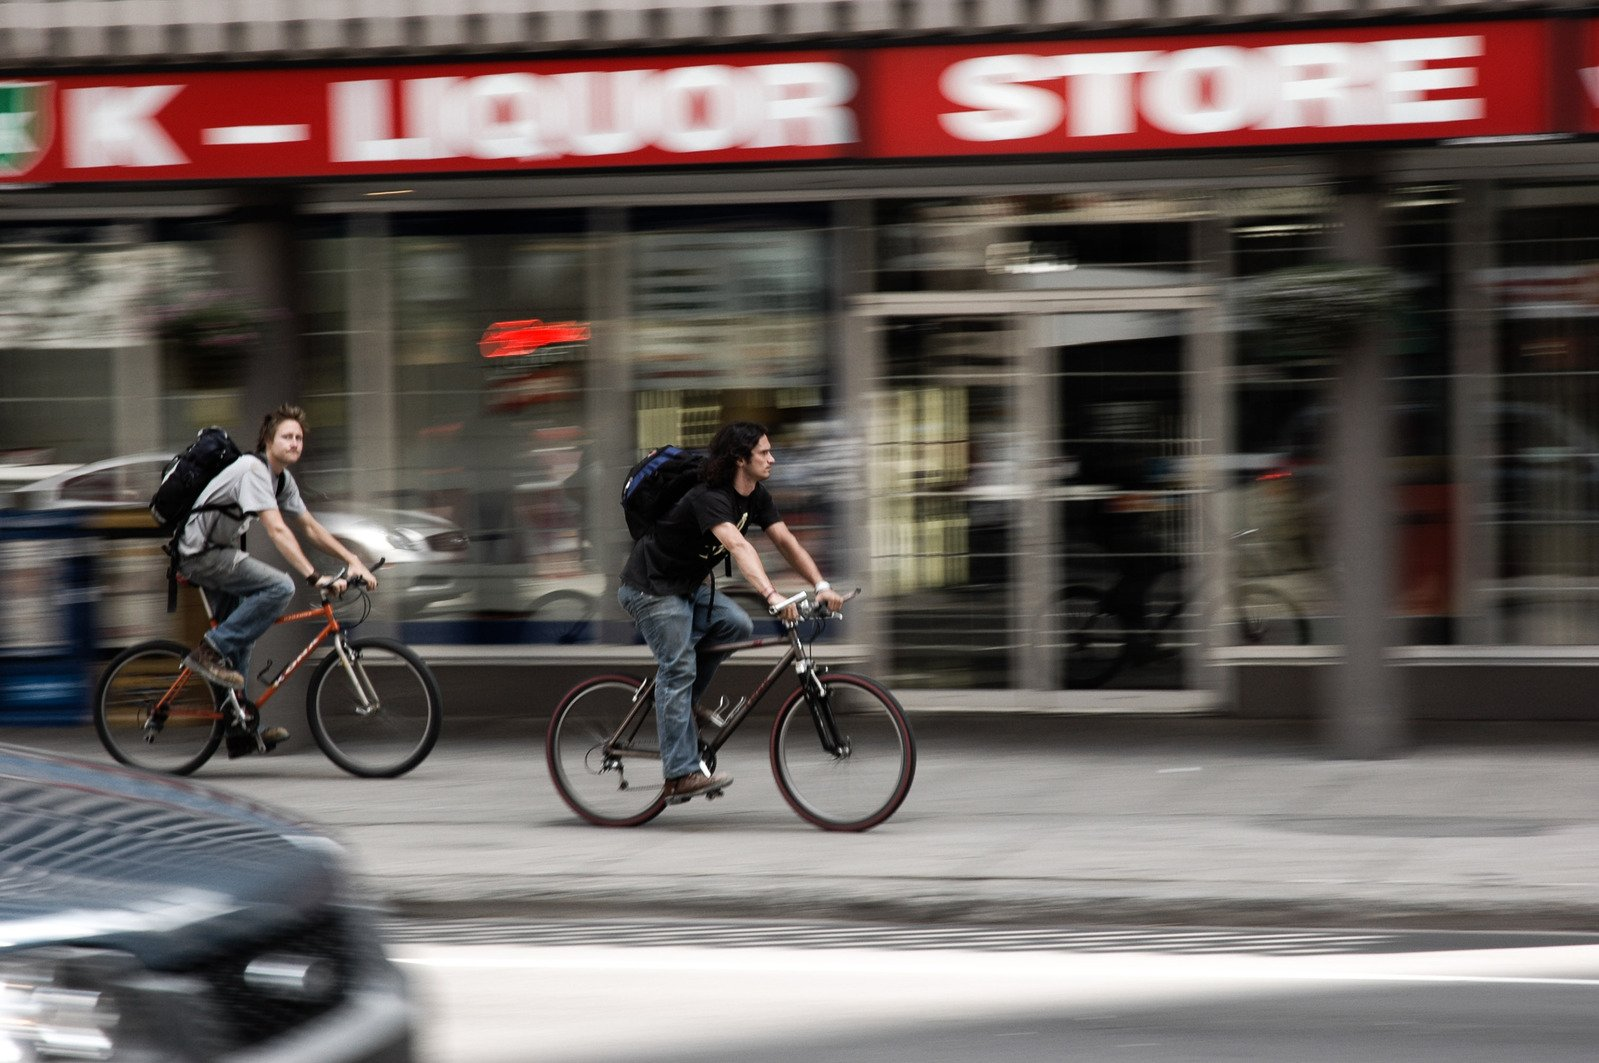Bicycle: (13, 109, 1534, 1063)
